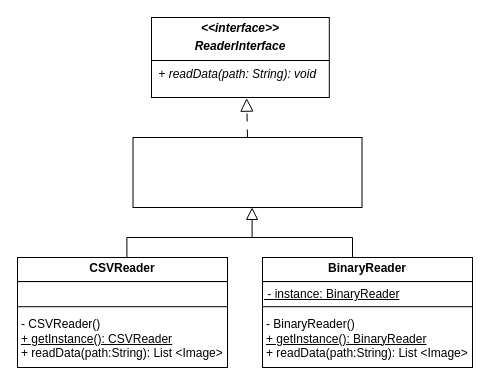
Image size: 490x385. Some labels were removed from this diagram. The shapes that lost their labels are listed below. From the top down, each one's centre as x and y in pixels, then its label:
At point (247, 172): "<<Abstract>> DataReader + readData(path:String): List < Image>".
At point (122, 294): "- instance: CSVReader".
